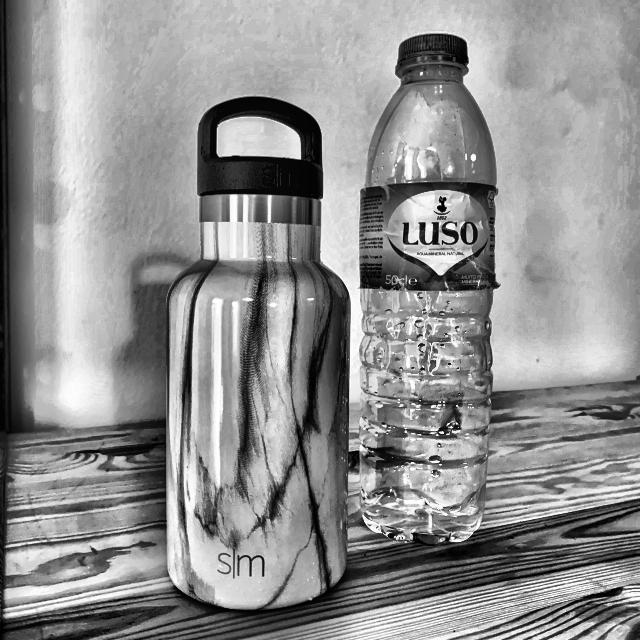waterbottle: (344, 27, 508, 551)
